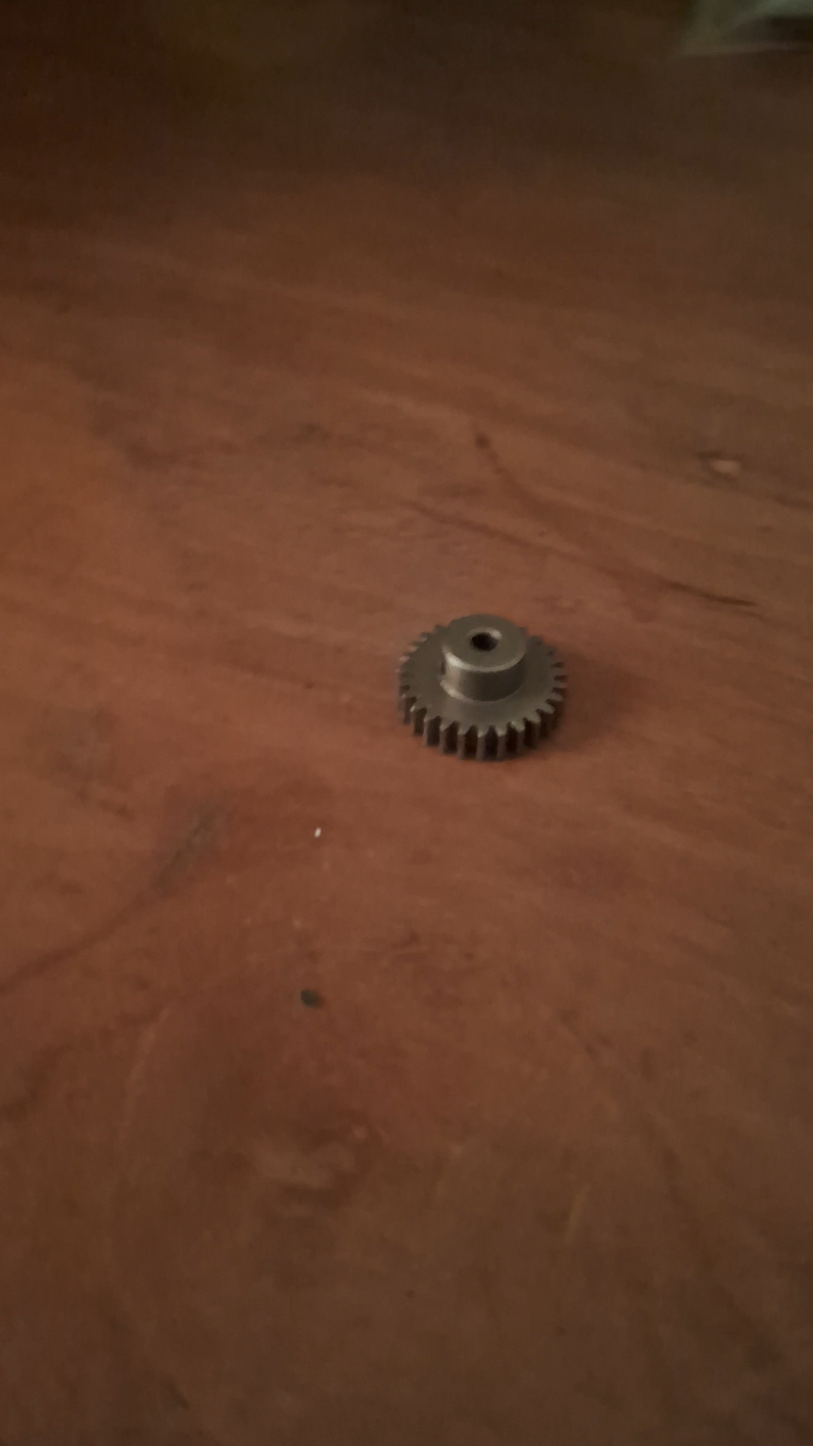spur gear: (399, 615, 565, 759)
